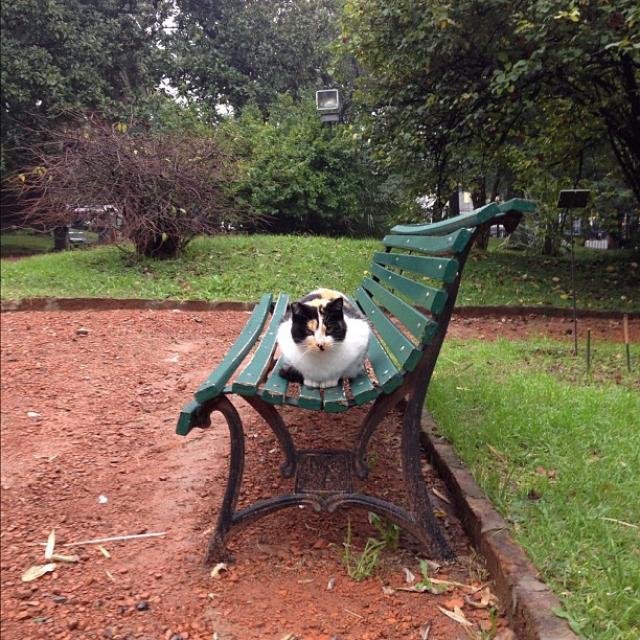cats: (272, 283, 375, 393)
